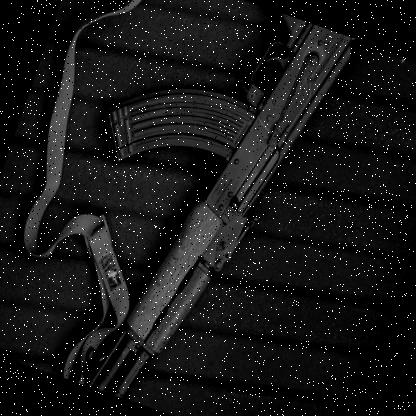rifle: (23, 0, 374, 416)
